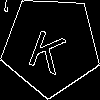K: (26, 20, 72, 75)
